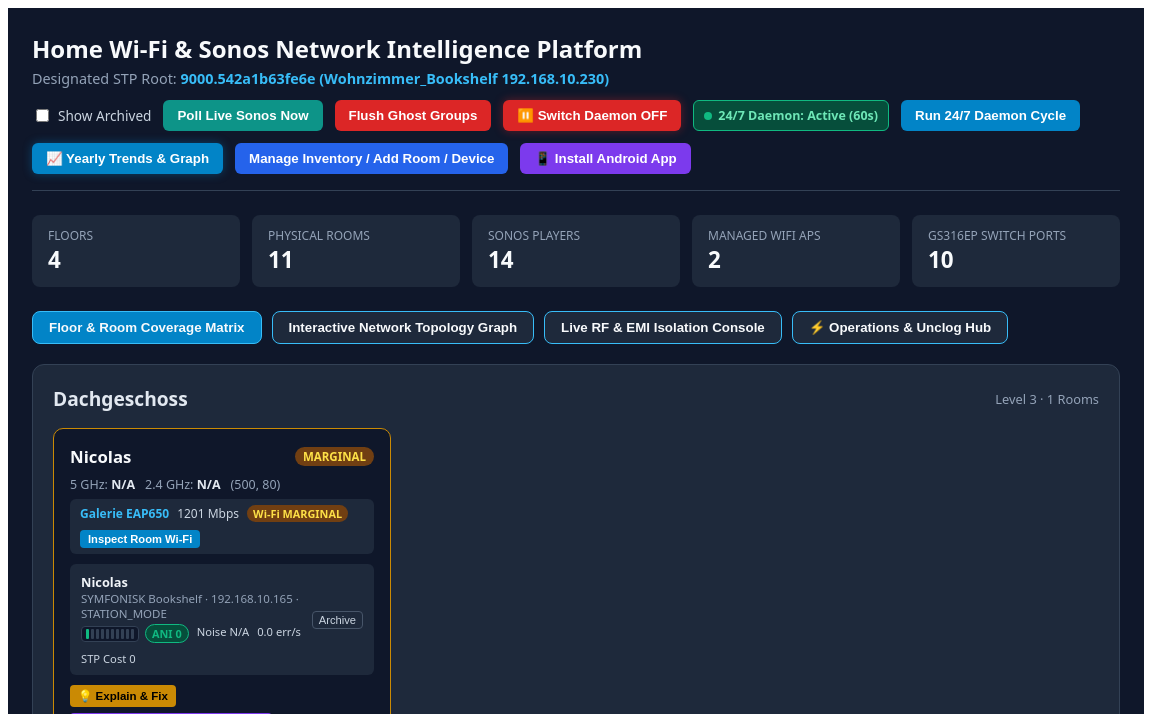
T6 Room Walkthrough Survey Delta & Live RF Console Slice › switches to Live RF & EMI Isolation Console tab, receives streaming WebSocket telemetry, and displays EMI spikes
Expected: the heading "Nicolas" is shown, [70, 445, 131, 468]
Click the button "Live RF & EMI Isolation Console" at (663, 328), box [544, 311, 782, 344]
(page scrolled)
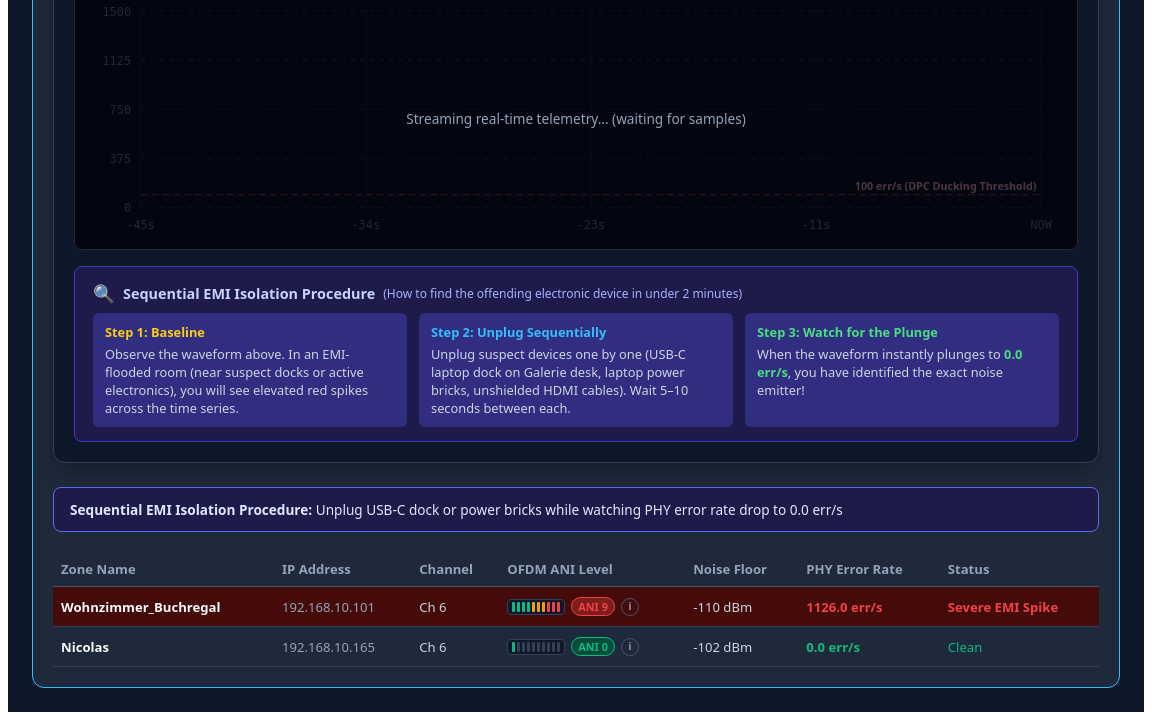
Now the text "Wohnzimmer_Buchregal" is shown, box [53, 587, 274, 627]
Now the text "1126.0 err/s" is shown, box [798, 587, 940, 627]
Now the text "ANI 9" is shown, box [578, 599, 608, 614]
